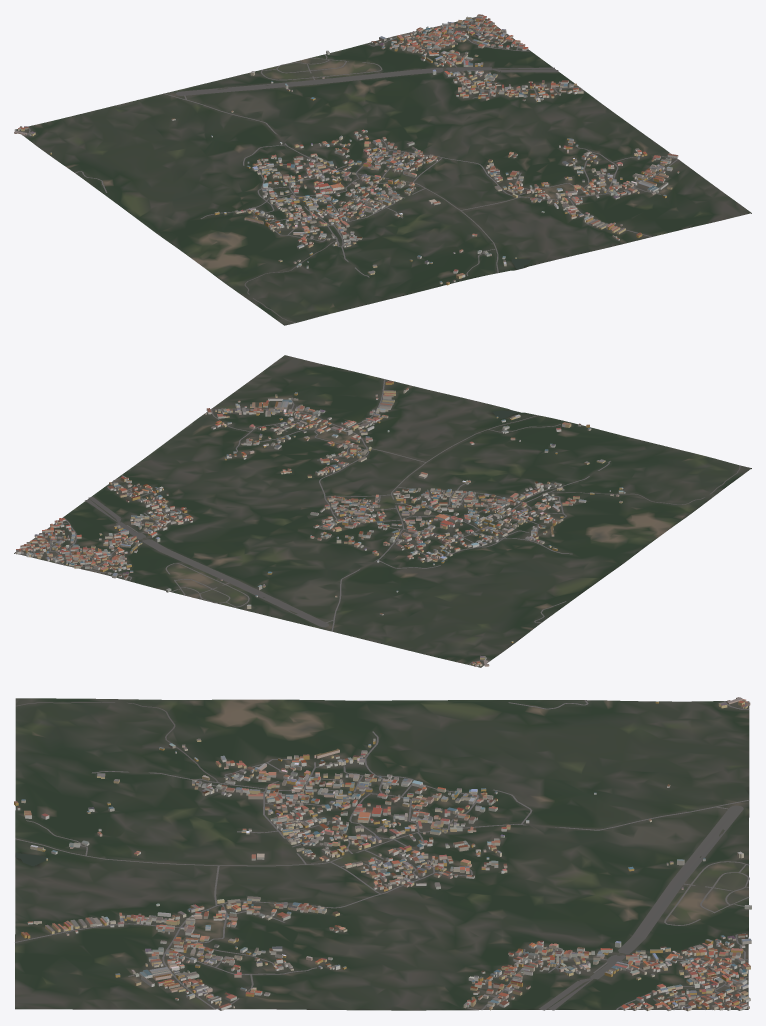
3 renders of one model, top to bottom at view 1: azimuth 30°, elevation 25°; view 2: azimuth 150°, elevation 25°; view 3: azimuth 270°, elevation 25°, orthographic. The views are drawn at different scales.
Parts seen in each view (by area): view 1: ground, buildings, roads; view 2: ground, buildings, roads; view 3: ground, buildings, roads.
Part boxes in pixels (x1=…): ground: x1=14, y1=17, x2=751, y2=325; buildings: x1=14, y1=14, x2=679, y2=285; roads: x1=24, y1=17, x2=678, y2=322; ground: x1=14, y1=355, x2=751, y2=667; buildings: x1=16, y1=381, x2=625, y2=666; roads: x1=18, y1=379, x2=740, y2=664; ground: x1=15, y1=698, x2=749, y2=1010; buildings: x1=14, y1=697, x2=751, y2=1011; roads: x1=15, y1=700, x2=749, y2=1010.
Size of the model in its own units: 1417 by 20.2 by 1410.
